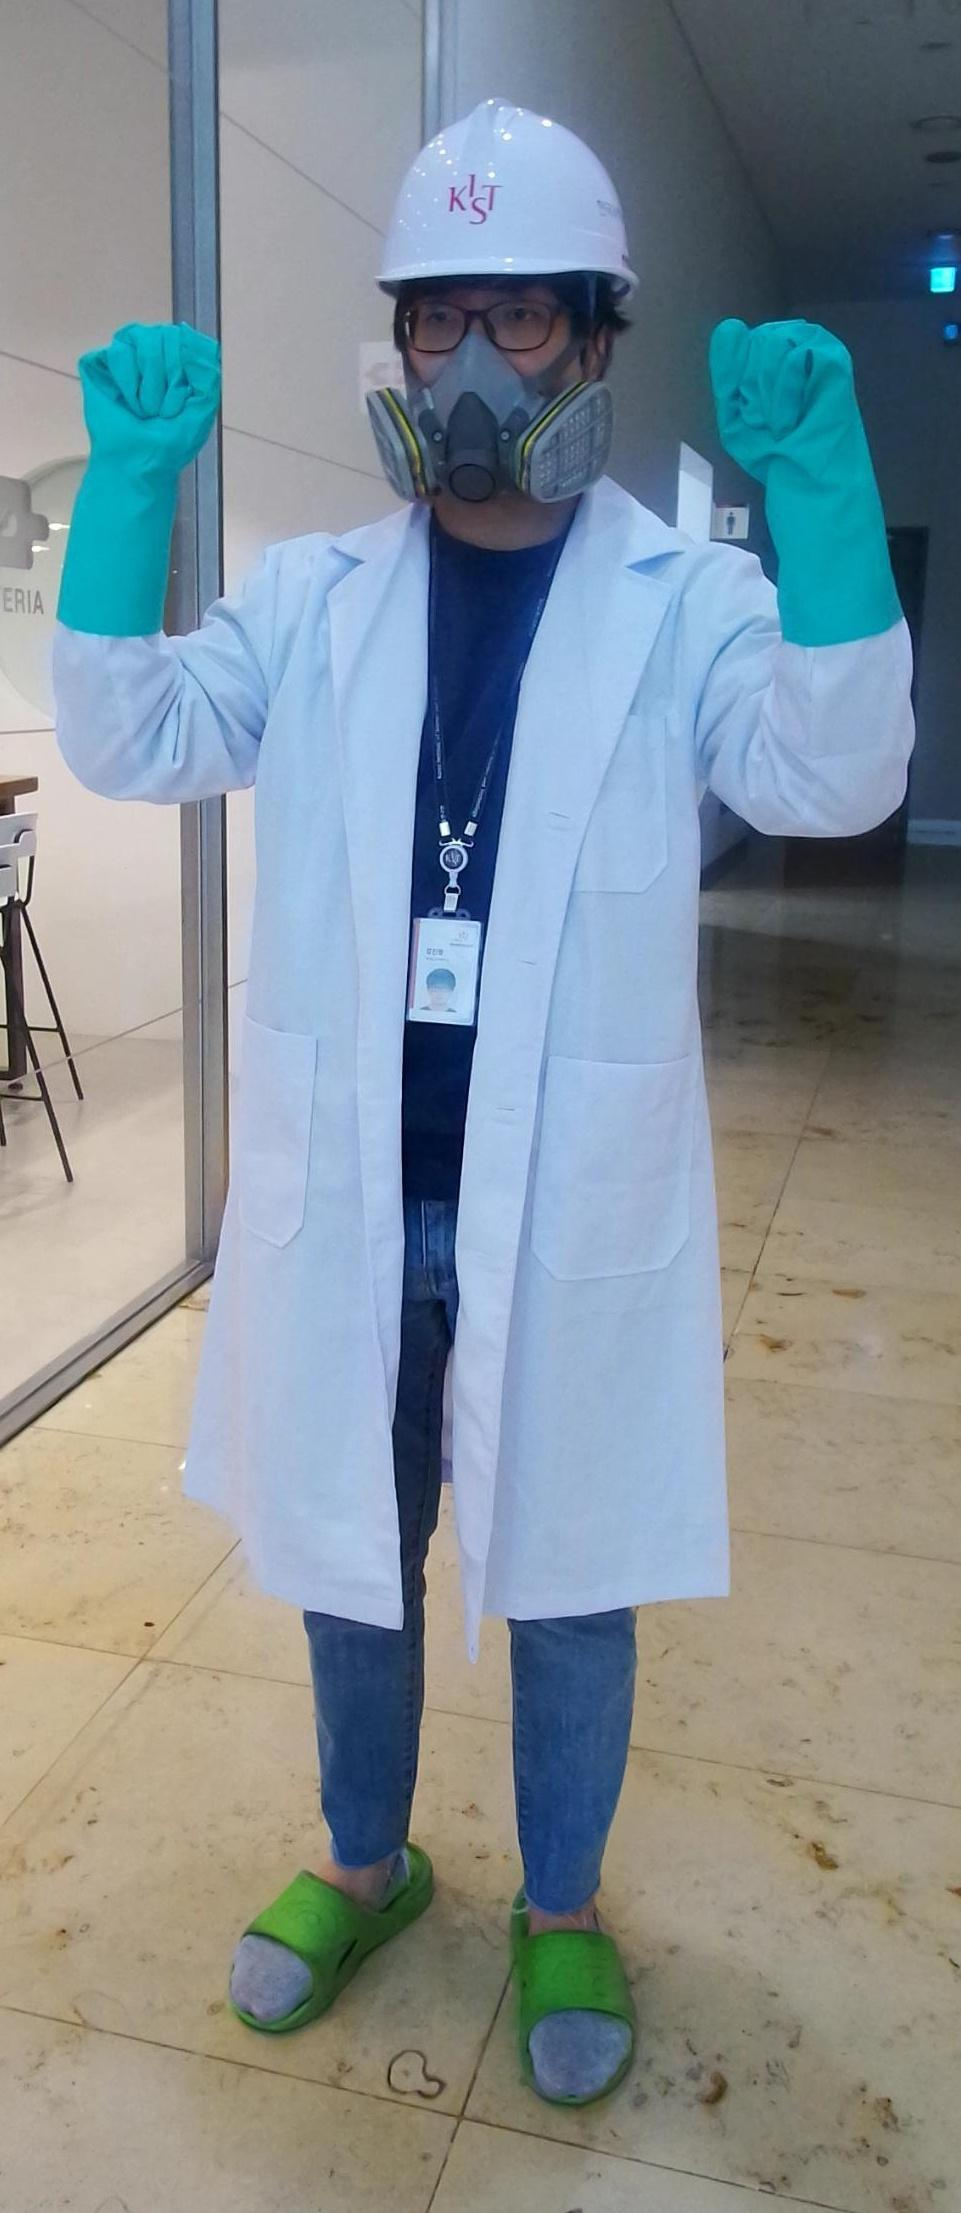lab_coat: (195, 541, 741, 1585)
